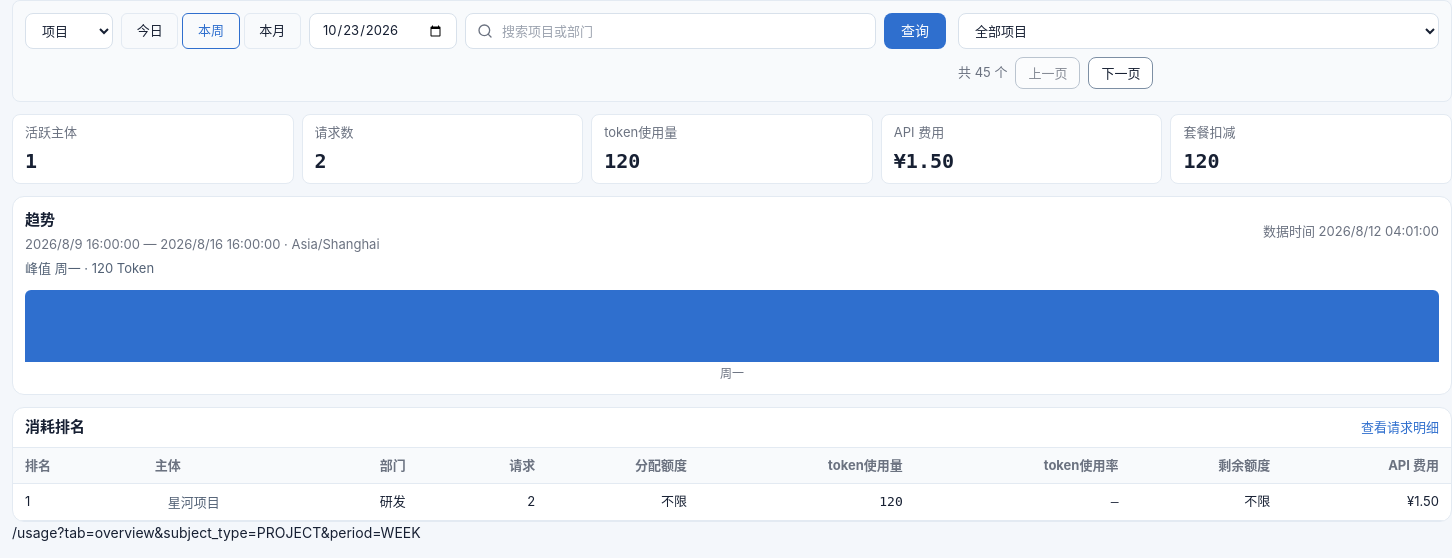
Test: W20-04 用量概览 Web › 排名点击回写 URL，明细下钻携带主体口径与半开时间
Click the button "星河项目" at (194, 502), box top-left (155, 486), bottom-right (233, 518)
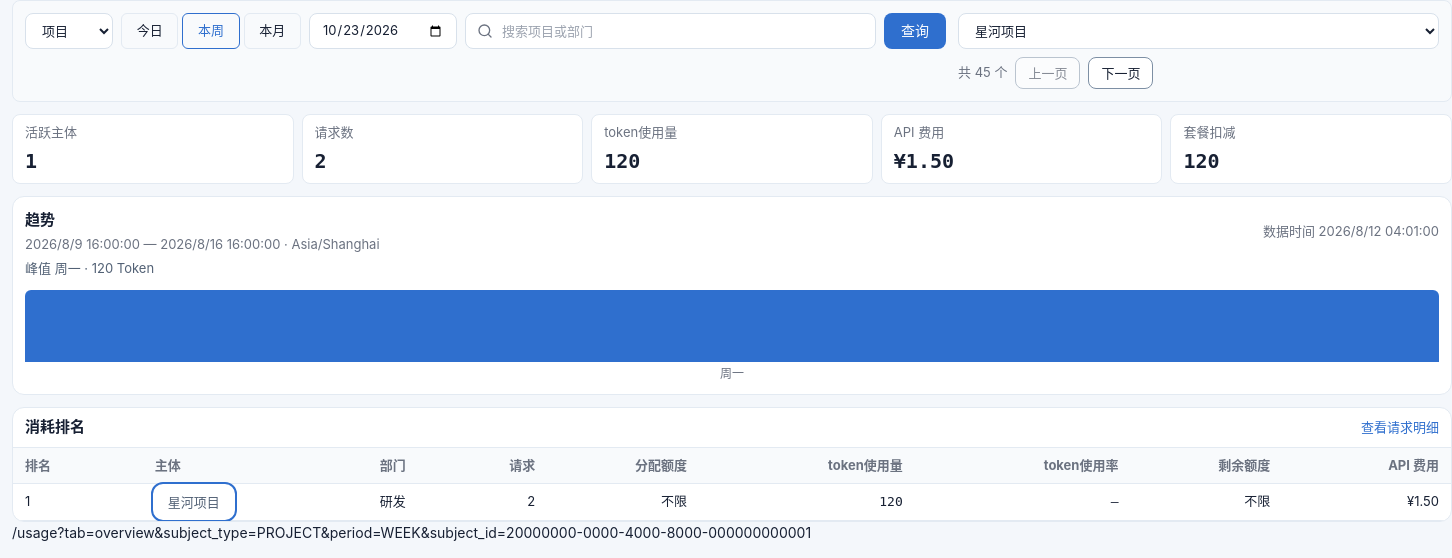
Expected: the text with test id "location" shows "subject_id=20000000-0000-4000-8000-000000000001", top-left (57, 524), bottom-right (811, 540)
